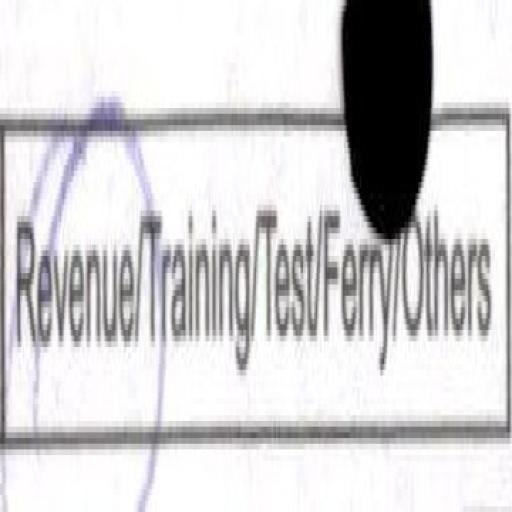check: (3, 74, 138, 512)
